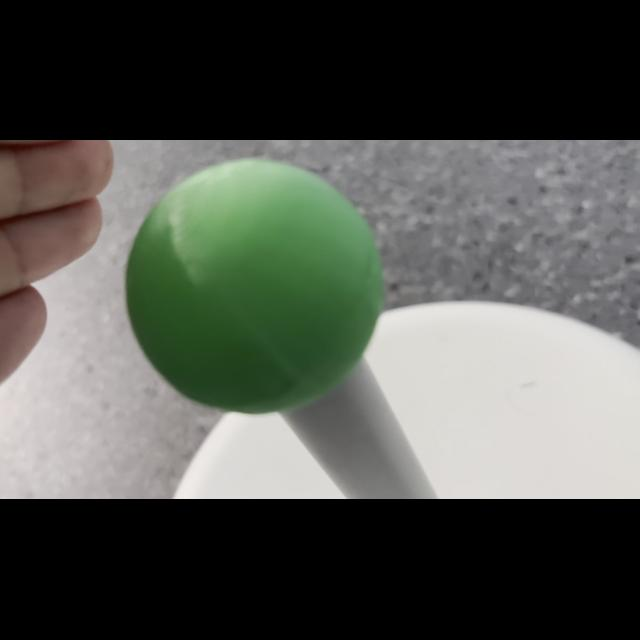objects: (122, 156, 390, 418)
